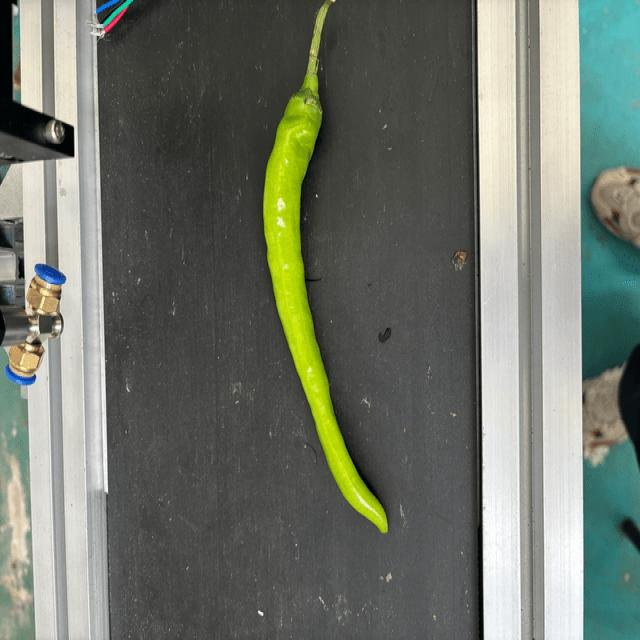chili: (262, 83, 390, 538)
